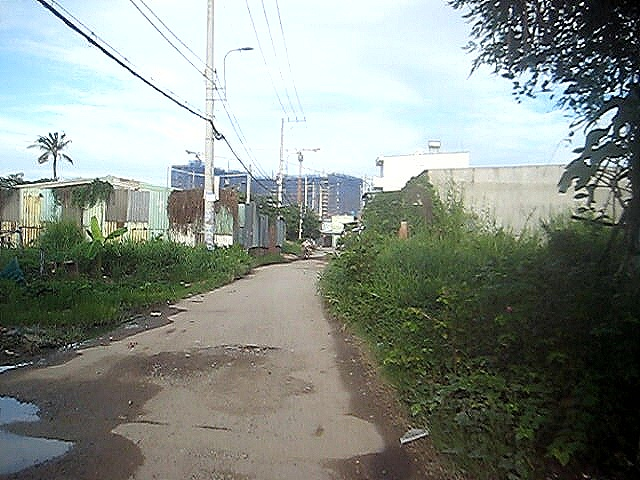hole: (125, 343, 286, 378), (1, 429, 76, 477), (1, 390, 46, 424)
